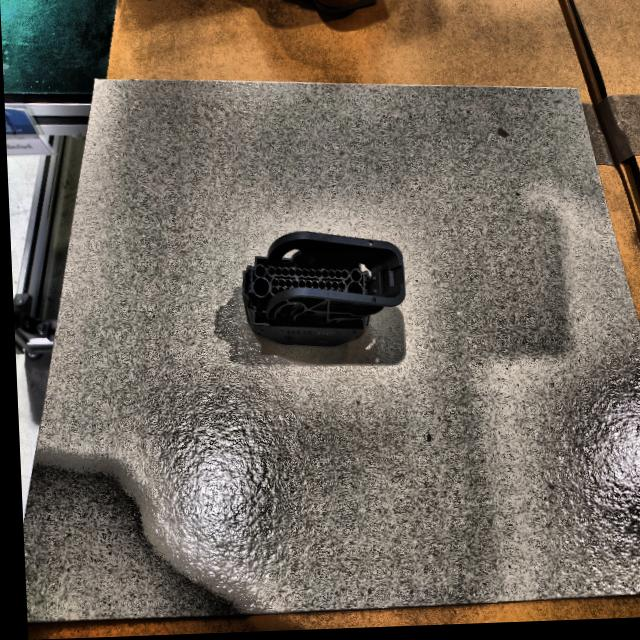P38: (240, 234, 402, 348)
